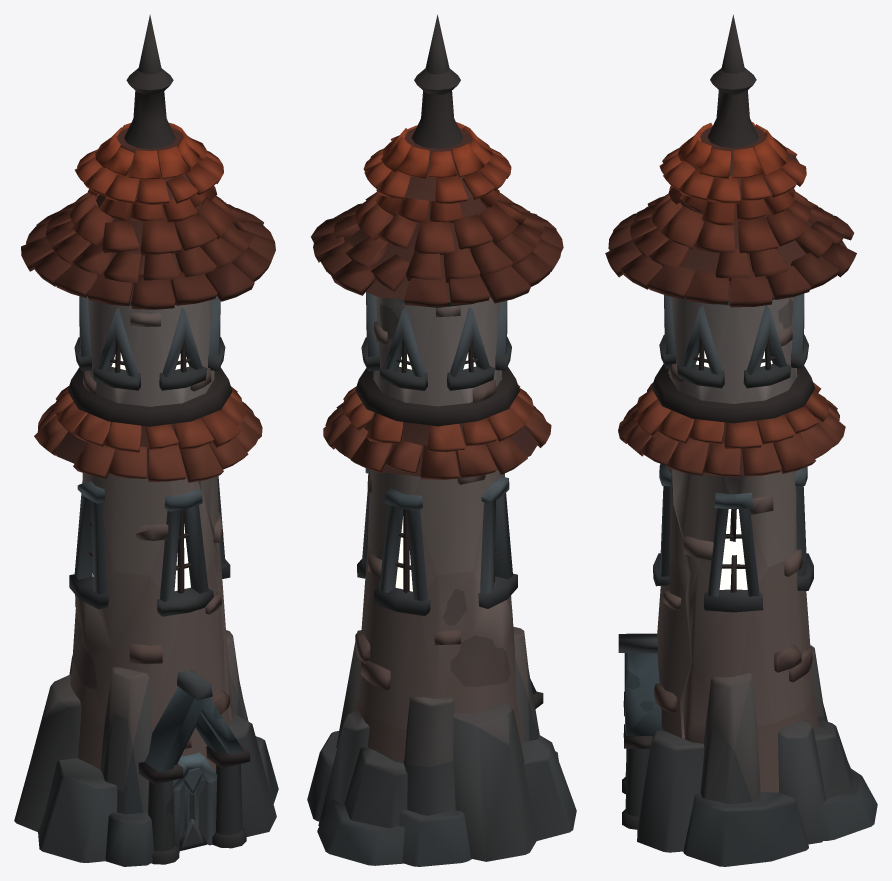
Rendered from tower_big_001.glb.
3 renders of one model, left to right at view 1: azimuth 30°, elevation 25°; view 2: azimuth 150°, elevation 25°; view 3: azimuth 270°, elevation 25°, orthographic.
Visible parts, largest first — view 1: TowerBig_001; view 2: TowerBig_001; view 3: TowerBig_001.
Boxes of the visible parts, bbox=[...] form: TowerBig_001: bbox=[14, 14, 278, 866]; TowerBig_001: bbox=[307, 14, 576, 866]; TowerBig_001: bbox=[605, 14, 877, 866].
Bounding box in the file's own units: 7.5 × 23.49 × 7.31.
